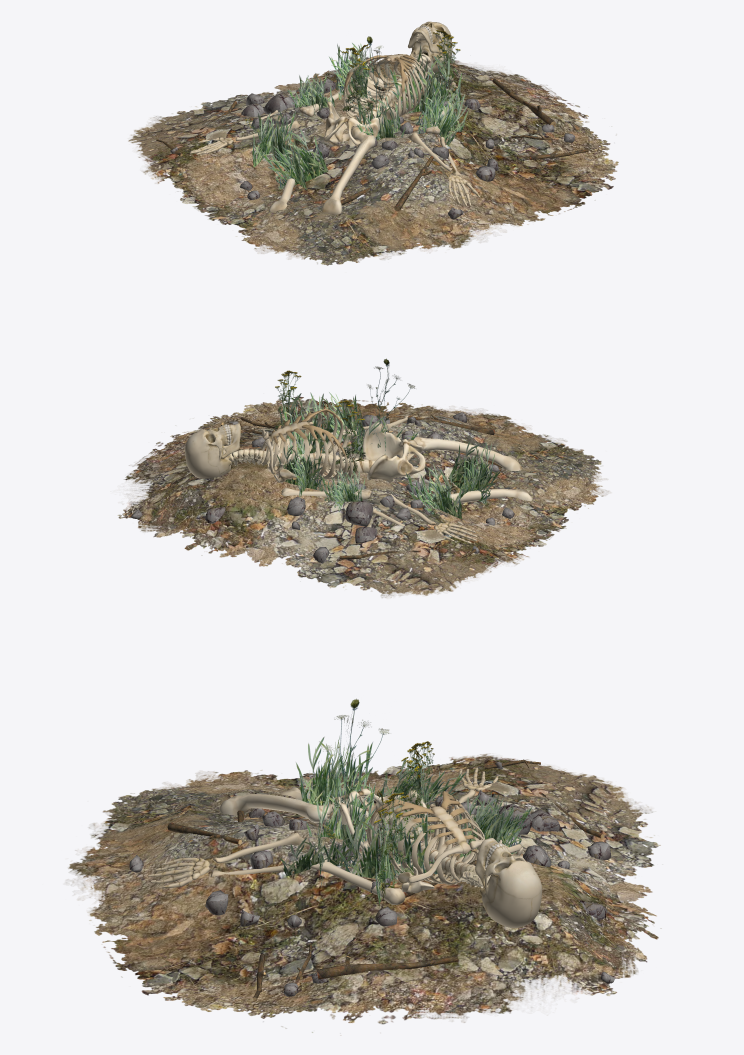
The model's file is remains.glb.
3 views of the same model, one above another, from view 1: azimuth 30°, elevation 25°; view 2: azimuth 150°, elevation 25°; view 3: azimuth 270°, elevation 25° (orthographic). The views are drawn at different scales.
Visible parts, largest first — view 1: Object_2, Object_6, Object_3, Object_4, Object_8, Object_7, Object_5; view 2: Object_2, Object_6, Object_3, Object_4, Object_8, Object_5, Object_7; view 3: Object_2, Object_6, Object_4, Object_3, Object_8, Object_5, Object_7.
Part boxes in pixels (left/top/right/bottom): Object_2: left=128, top=57, right=618, bottom=265; Object_6: left=245, top=30, right=469, bottom=190; Object_3: left=324, top=53, right=431, bottom=153; Object_4: left=190, top=56, right=479, bottom=214; Object_8: left=170, top=57, right=574, bottom=219; Object_7: left=156, top=78, right=588, bottom=211; Object_5: left=408, top=21, right=452, bottom=72; Object_2: left=117, top=396, right=610, bottom=598; Object_6: left=267, top=358, right=501, bottom=518; Object_3: left=228, top=409, right=425, bottom=481; Object_4: left=262, top=415, right=532, bottom=543; Object_8: left=131, top=412, right=514, bottom=563; Object_5: left=185, top=423, right=240, bottom=478; Object_7: left=185, top=414, right=502, bottom=562; Object_2: left=66, top=754, right=661, bottom=1035; Object_6: left=279, top=698, right=532, bottom=904; Object_4: left=148, top=767, right=523, bottom=904; Object_3: left=327, top=788, right=490, bottom=888; Object_8: left=129, top=762, right=614, bottom=996; Object_5: left=475, top=838, right=541, bottom=928; Object_7: left=167, top=759, right=604, bottom=1000.
Bounding box in the file's own units: 2.2 × 0.6821 × 2.2.
7 materials, 7 textured.
